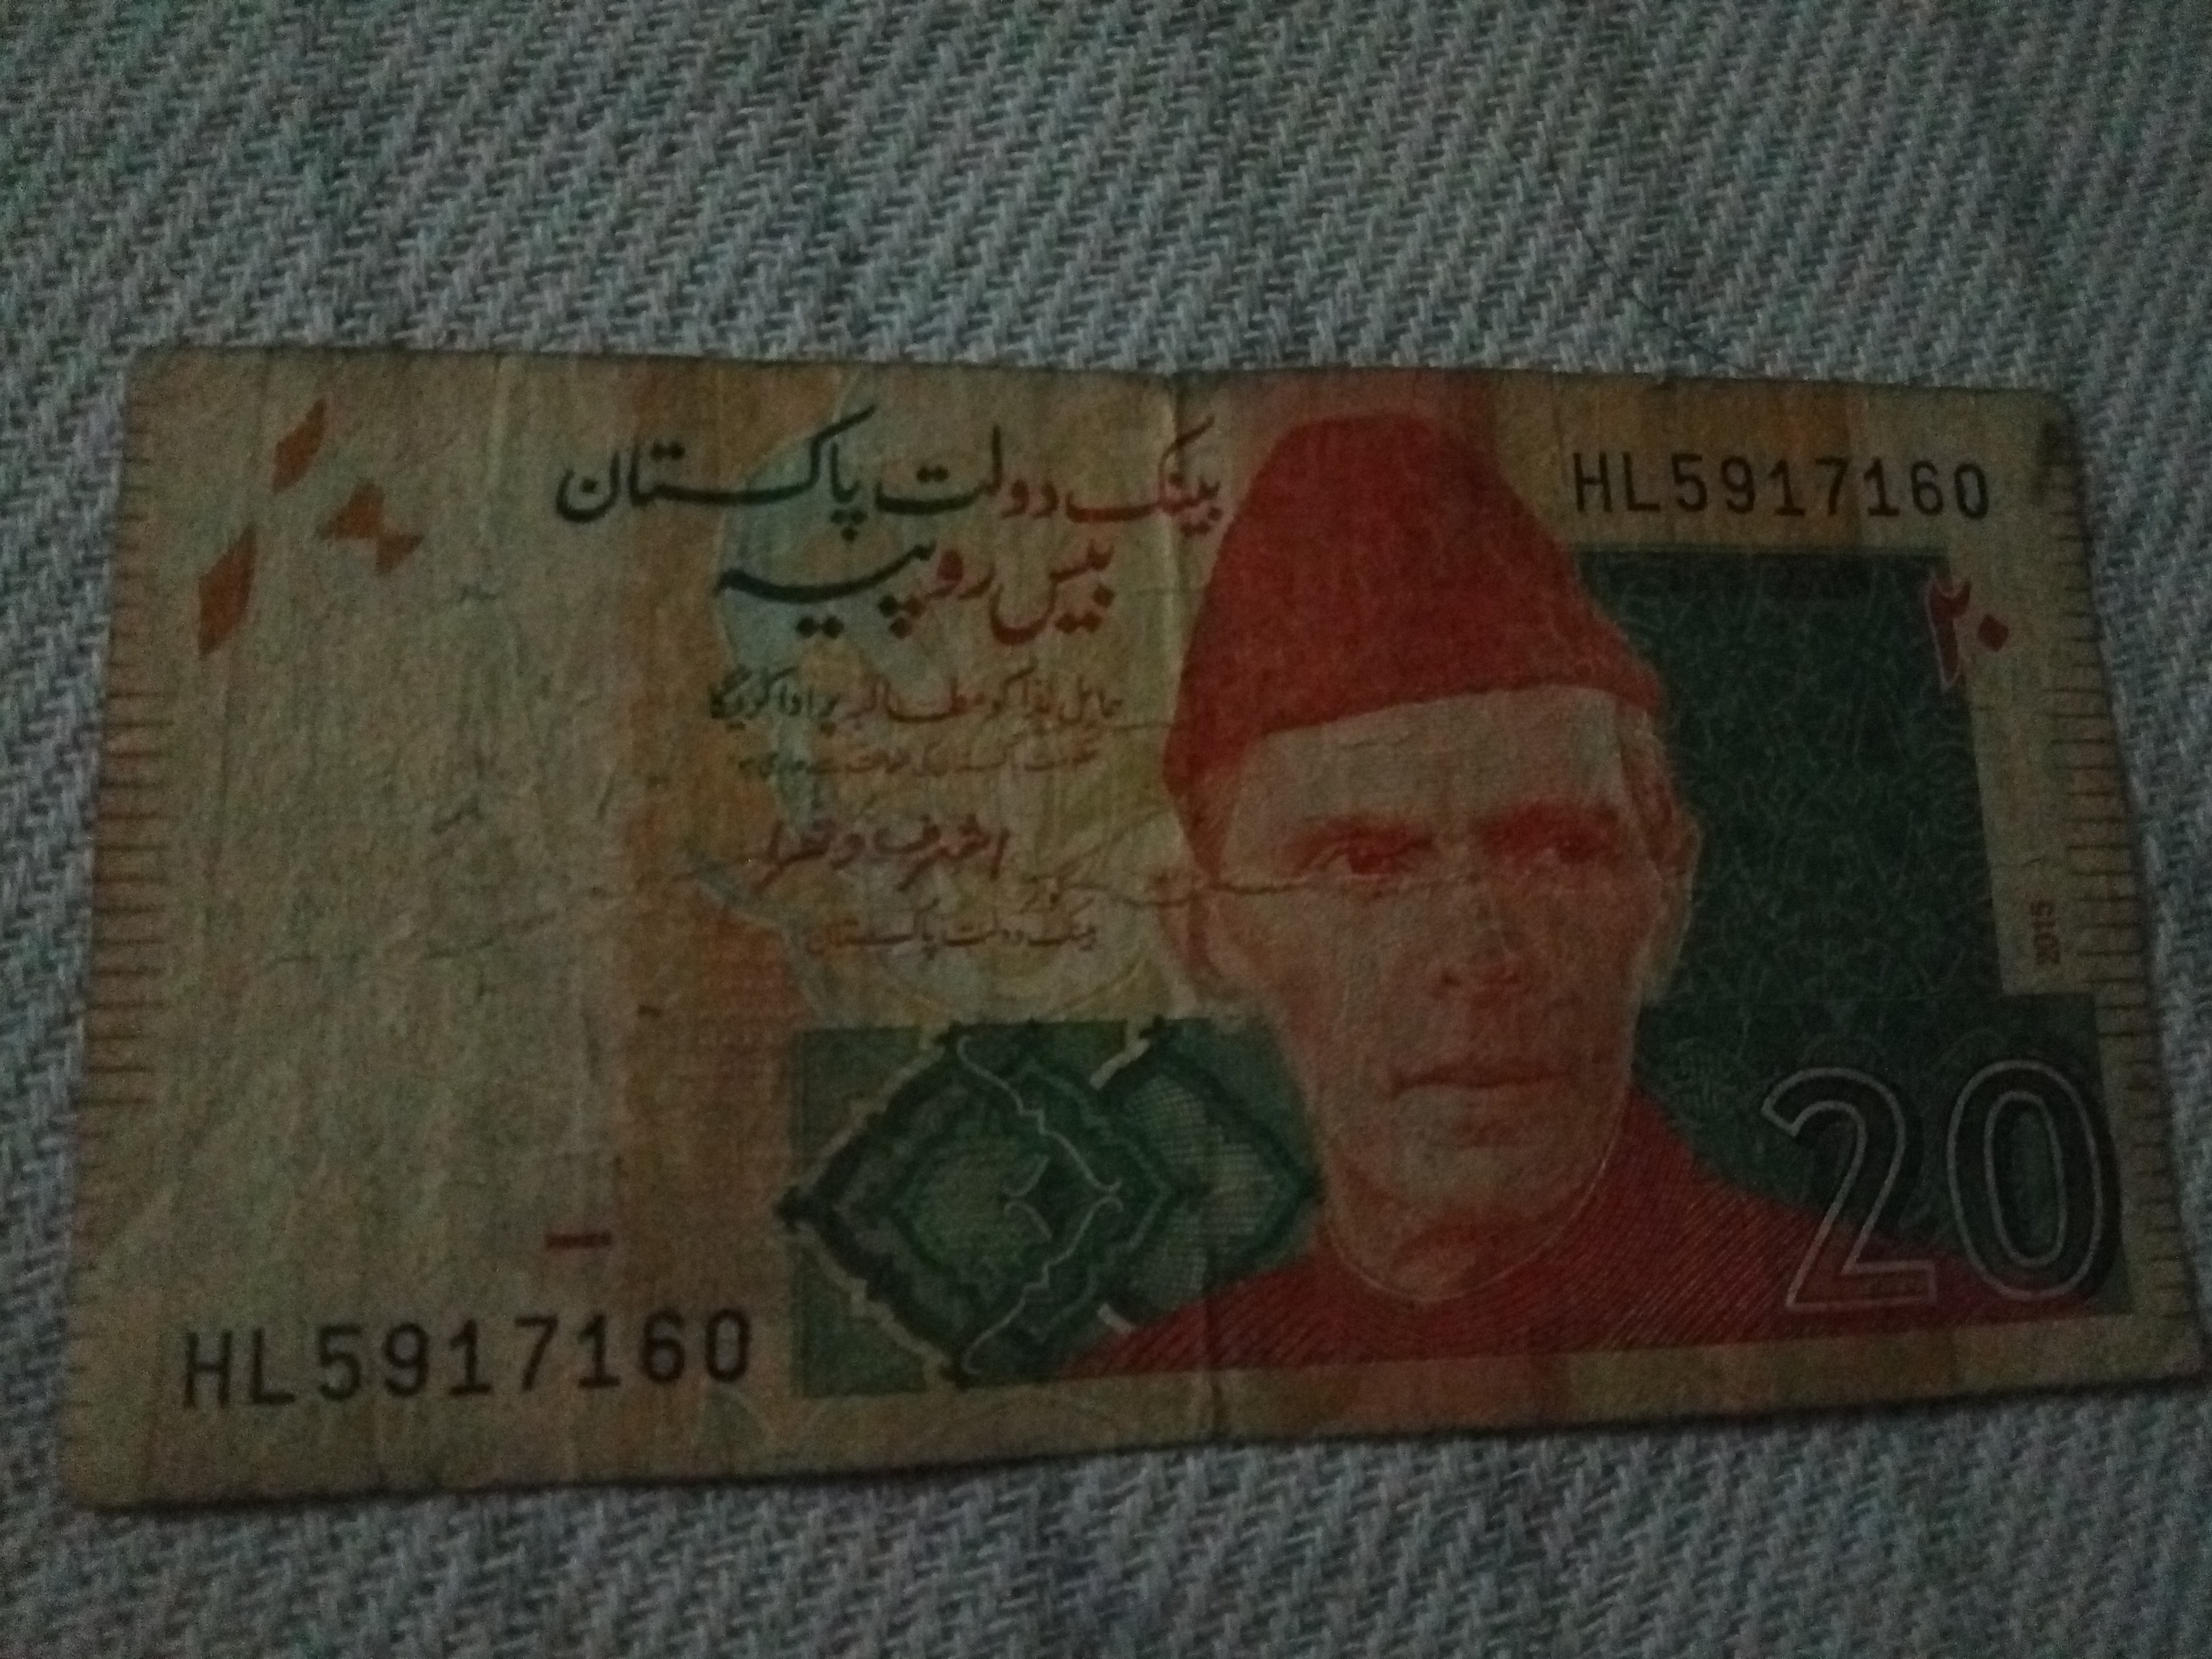20 rupee: (57, 275, 2182, 1600)
